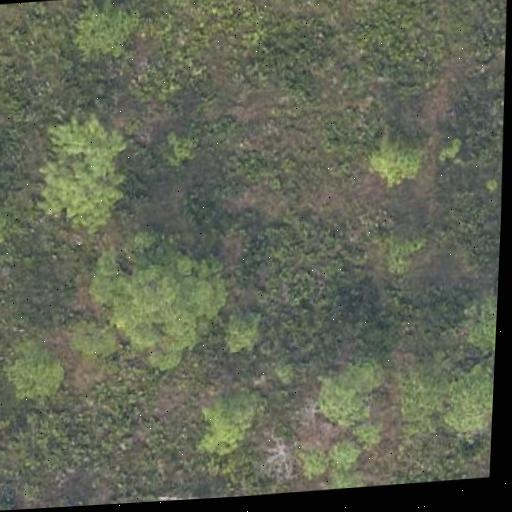tree-top: (78, 225, 233, 377), (31, 108, 128, 241), (188, 379, 273, 460), (307, 349, 392, 427), (68, 0, 141, 64), (433, 366, 494, 442), (1, 331, 64, 403), (369, 127, 426, 187), (459, 294, 498, 357), (218, 306, 263, 358), (326, 431, 365, 472)
